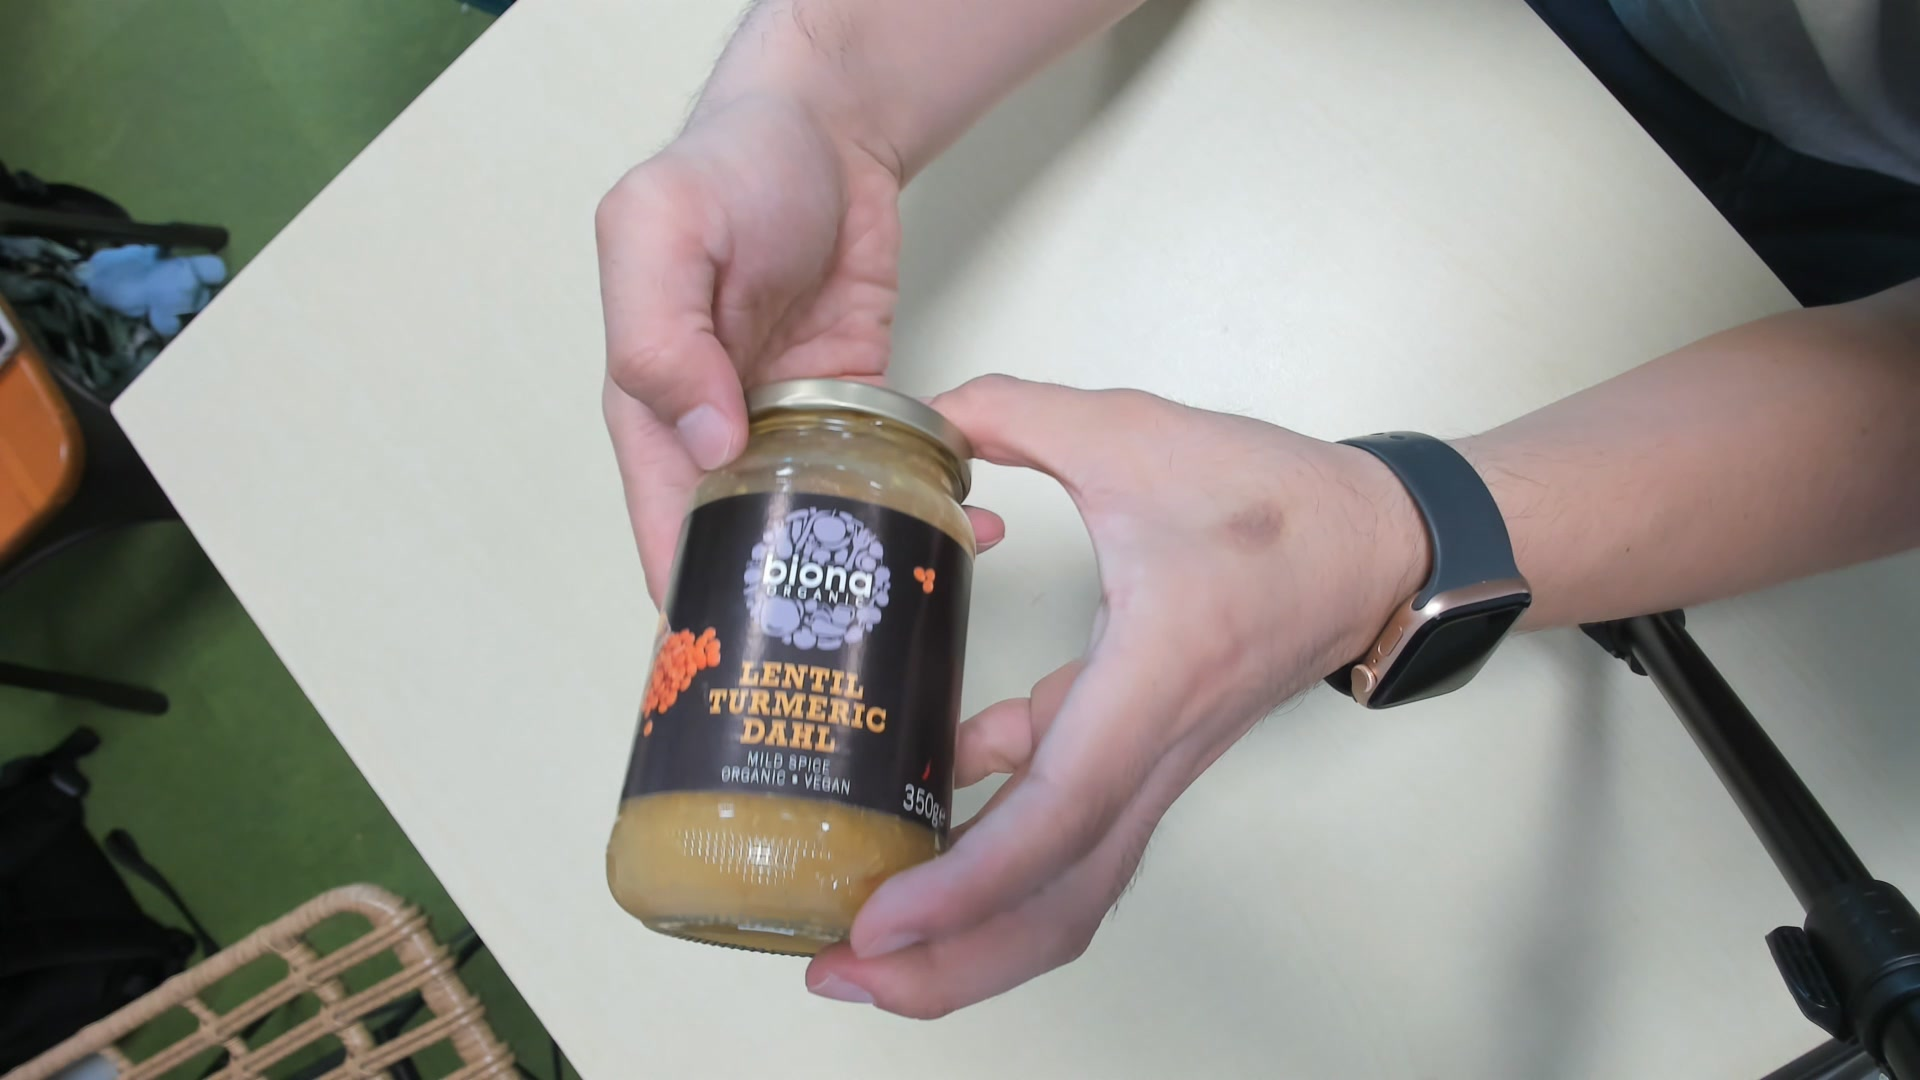OtherSauceDressing_300-399g_NonHalal_NonHealthy: (603, 381, 977, 963)
